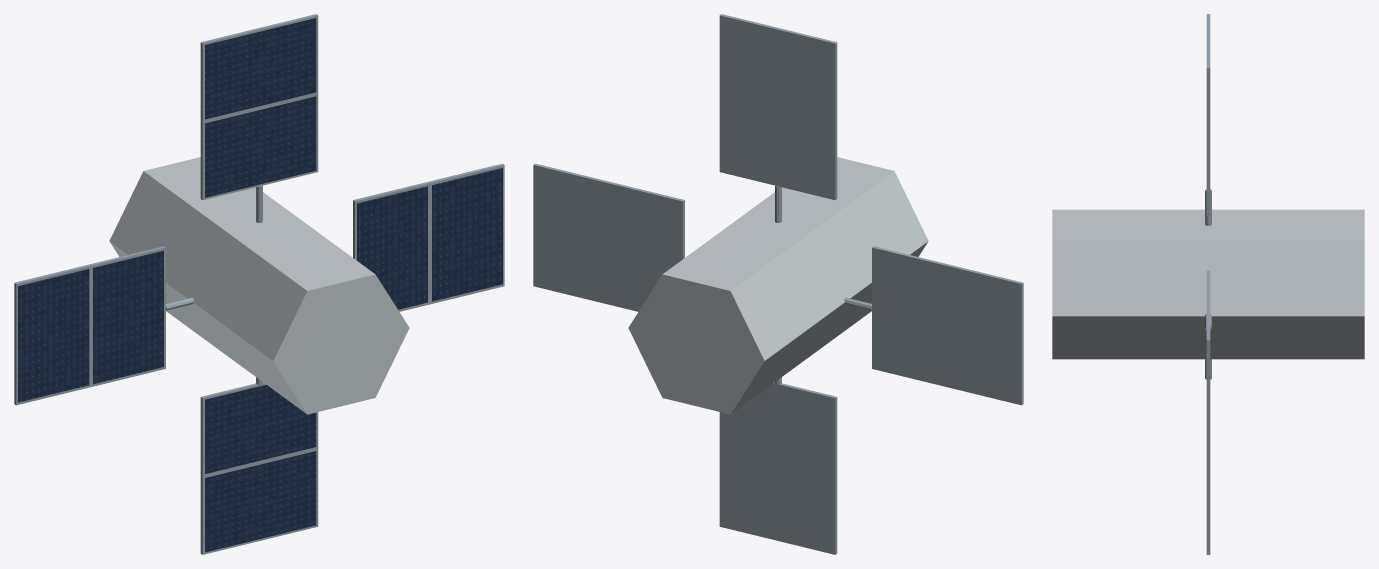
File: ref-pegastar-23191.glb
The picture shows the model from 3 angles, left to right: view 1: azimuth 30°, elevation 25°; view 2: azimuth 150°, elevation 25°; view 3: azimuth 270°, elevation 25°; orthographic projection. The views are drawn at different scales.
Parts seen in each view (by area): view 1: Photovoltaic laminates (×8), Spacecraft body, Array frame (×8); view 2: Array frame (×8), Spacecraft body; view 3: Spacecraft body, Array frame (×2).
Boxes of the visible parts, box(x1,y1,x2,y2) form: Photovoltaic laminates (×8): box(18, 18, 502, 552); Spacecraft body: box(109, 157, 409, 414); Array frame (×8): box(14, 14, 504, 554); Array frame (×8): box(533, 14, 1023, 554); Spacecraft body: box(628, 157, 928, 414); Spacecraft body: box(1052, 209, 1364, 359); Array frame (×2): box(1206, 14, 1210, 455).
Size of the model in its own units: 4.3 by 4.3 by 2.5.
Materials: 3 (1 with a texture image).
